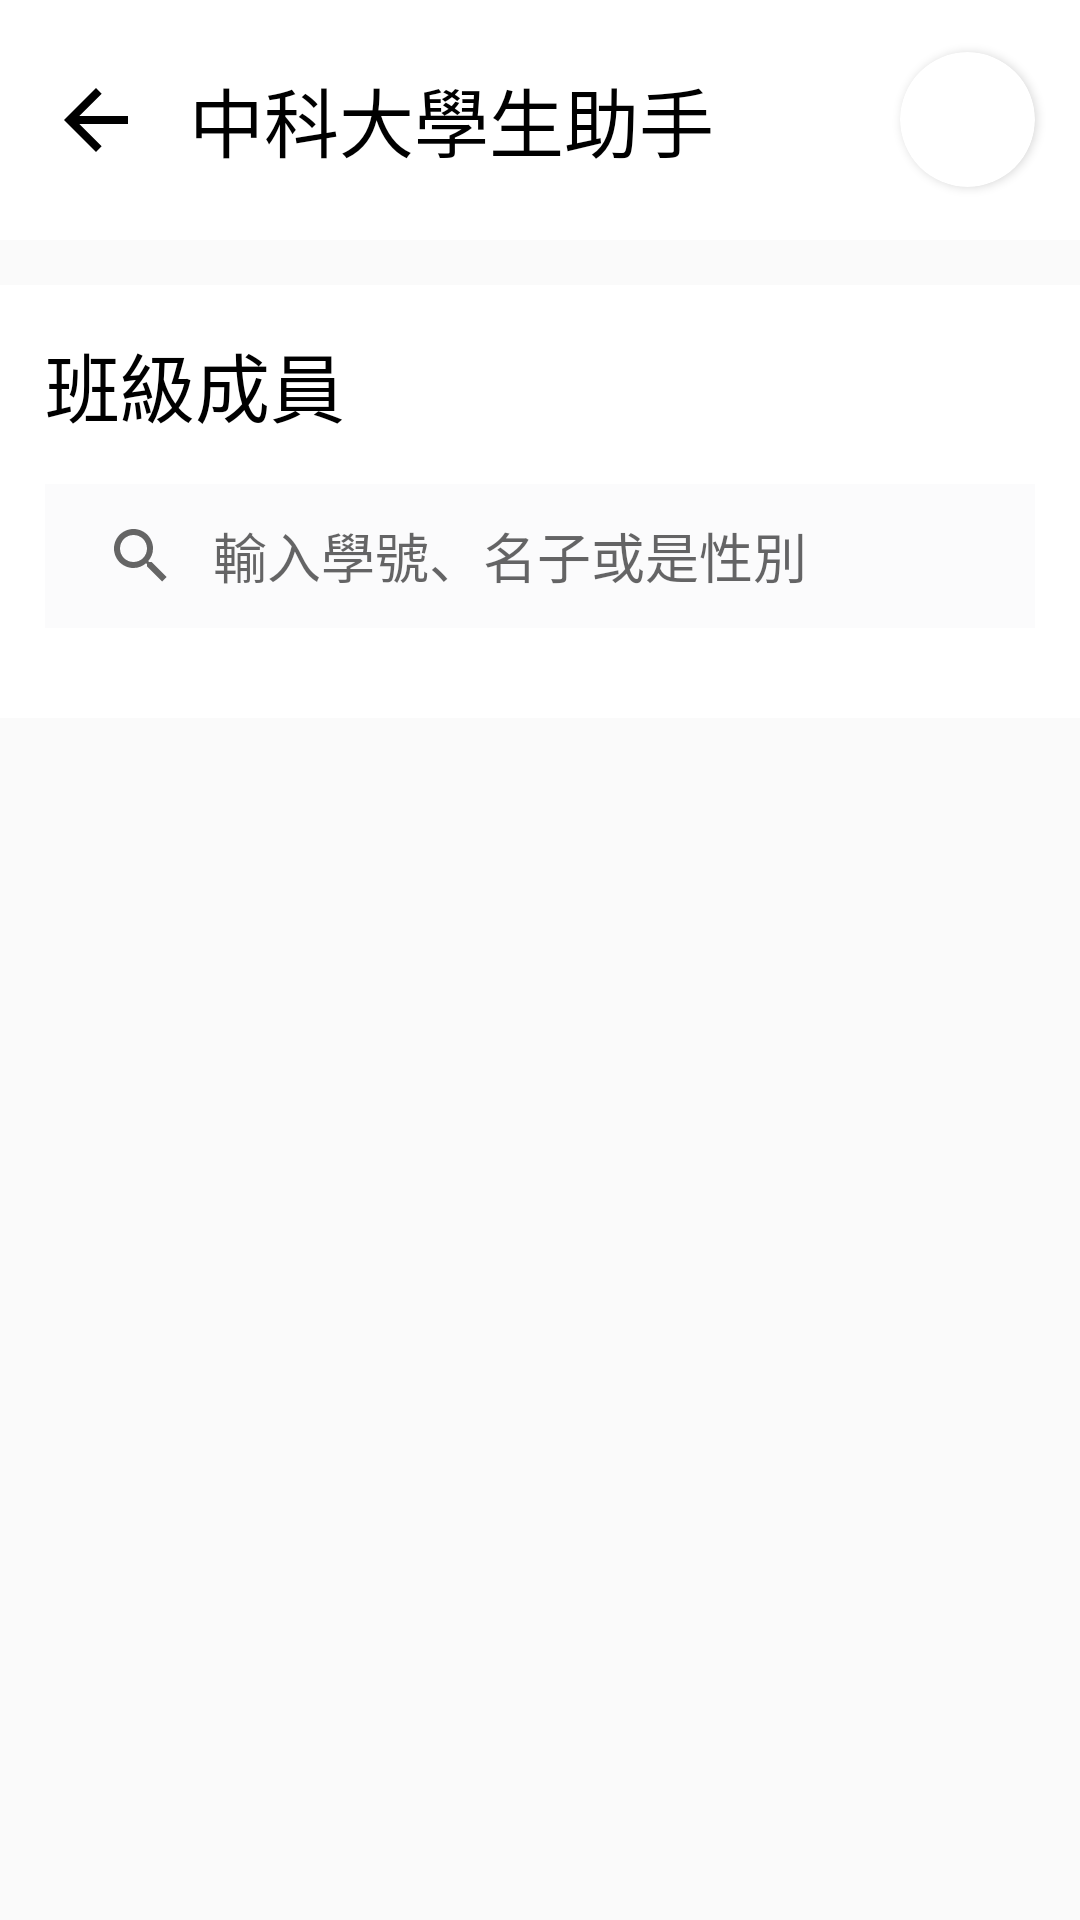

Point at icon controls on the screen. Image size 1080px x 1920px, points as [x,y].
back: [96,120]
